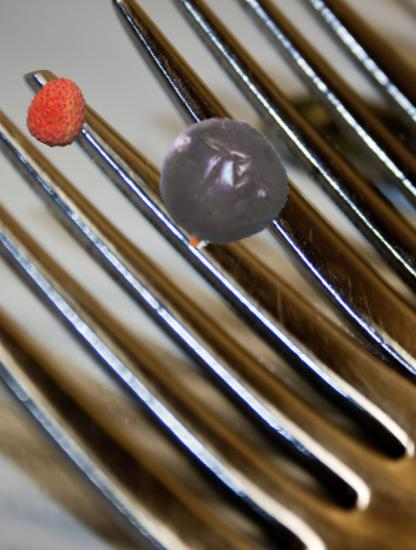Lychee: (24, 77, 95, 148)
Passion: (155, 117, 291, 253)
